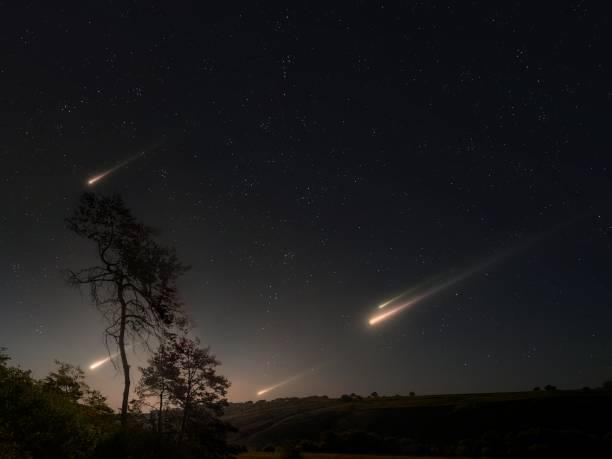meteor: (357, 314, 390, 338), (79, 174, 109, 193), (83, 360, 107, 378), (251, 388, 272, 400), (372, 304, 388, 314)
